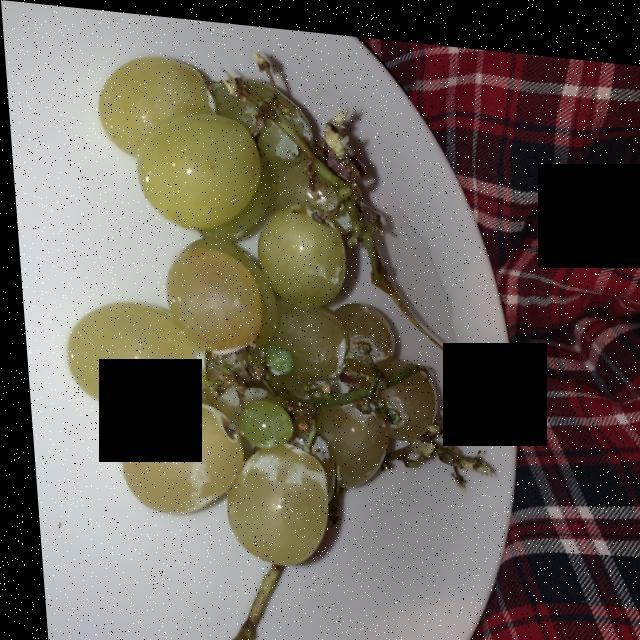grapes: (71, 65, 443, 562)
